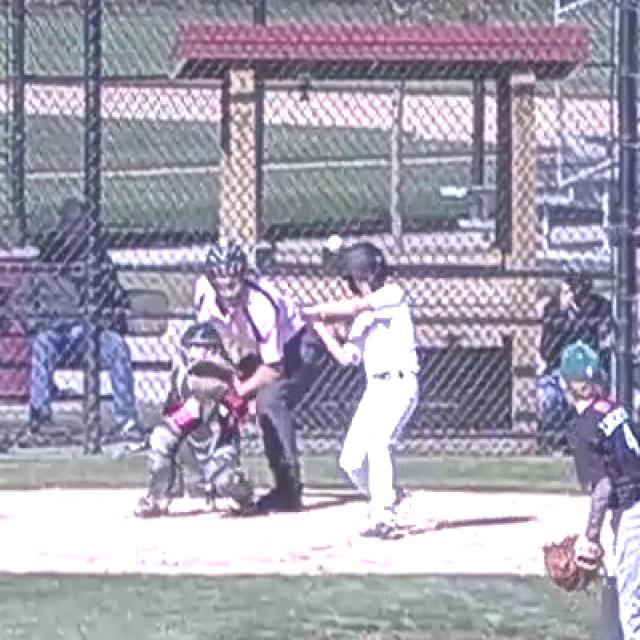baseball: (330, 237, 340, 249)
